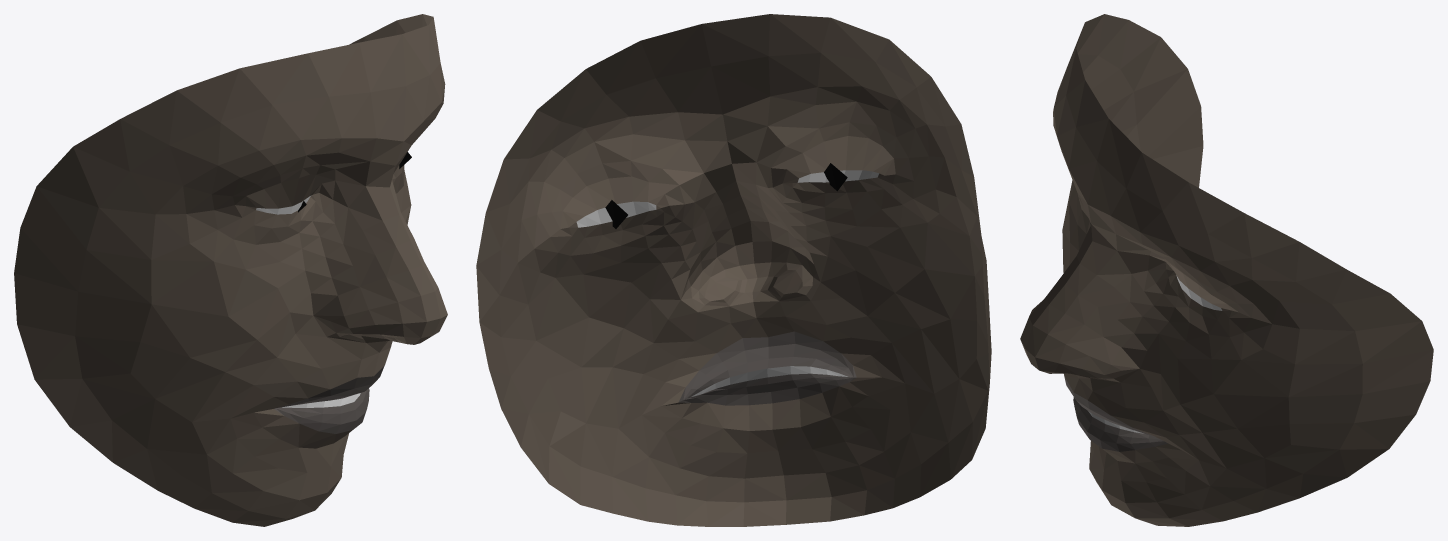
File: frame_00176.obj
The picture shows the model from 3 angles, left to right: view 1: azimuth 30°, elevation 25°; view 2: azimuth 150°, elevation 25°; view 3: azimuth 270°, elevation 25°; orthographic projection. The views are drawn at different scales.
Visible parts, largest first — view 1: face_model_with_iris; view 2: face_model_with_iris; view 3: face_model_with_iris.
Part boxes in pixels (box(x1,y1,x2,y2)): face_model_with_iris: box(14, 14, 447, 526); face_model_with_iris: box(476, 14, 991, 526); face_model_with_iris: box(1020, 14, 1433, 526).
Bounding box in the file's own units: 0.4971 × 0.5367 × 0.4393.
